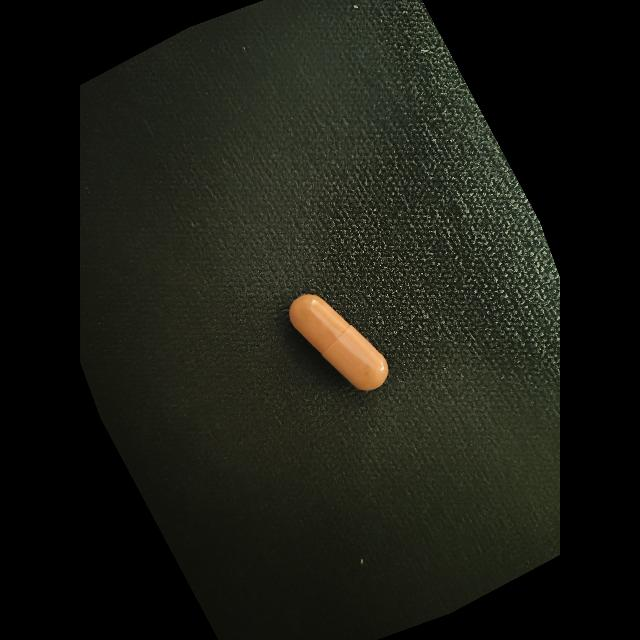Intact Capsule: (289, 294, 389, 391)
